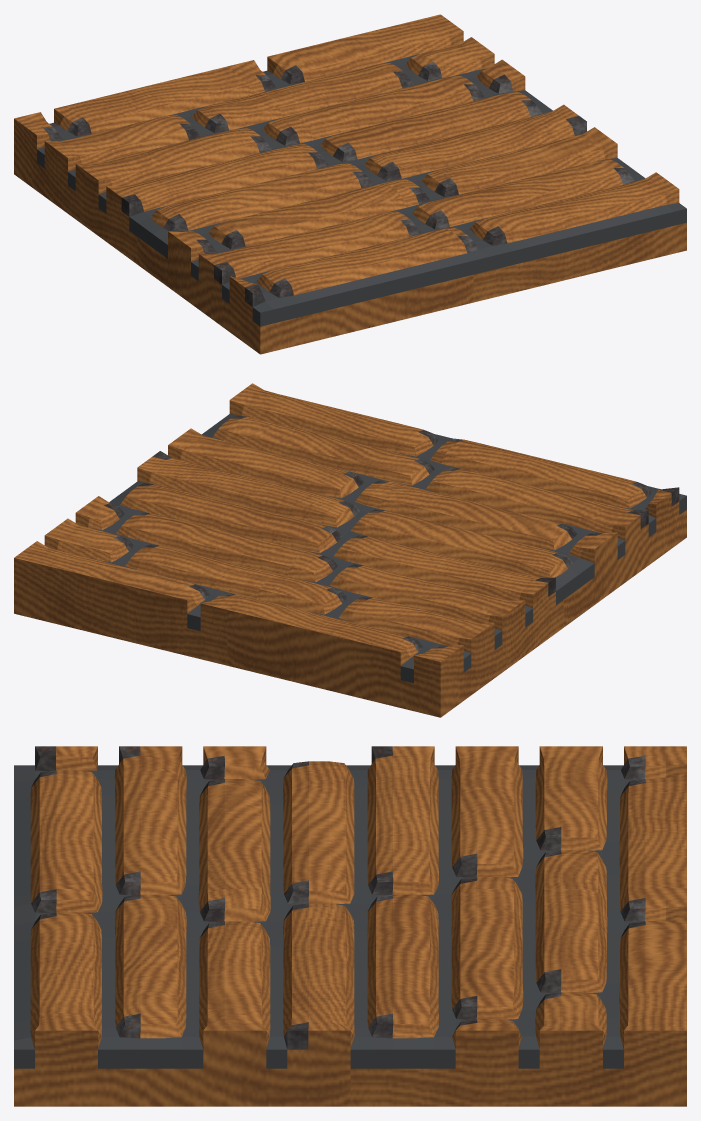
Rendered from floor_in_planks_light.glb.
3 views of the same model, one above another, from view 1: azimuth 30°, elevation 25°; view 2: azimuth 150°, elevation 25°; view 3: azimuth 270°, elevation 25° (orthographic). The views are drawn at different scales.
Visible parts, largest first — view 1: town_floor_in_planks_light; view 2: town_floor_in_planks_light; view 3: town_floor_in_planks_light.
Boxes of the visible parts, x1,y1,x2,y2 form: town_floor_in_planks_light: [14, 14, 686, 354]; town_floor_in_planks_light: [14, 383, 686, 717]; town_floor_in_planks_light: [14, 746, 686, 1106].
Bounding box in the file's own units: 1 × 0.125 × 1.
2 materials, 1 textured.
